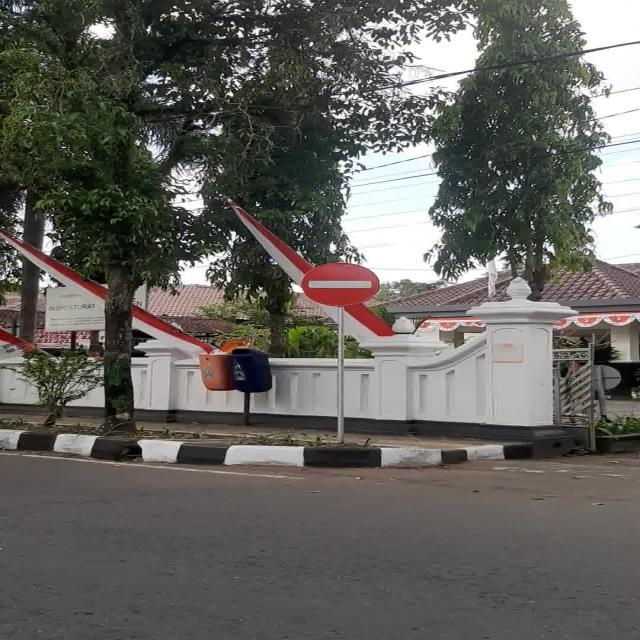Dilarang Masuk: (301, 263, 380, 306)
